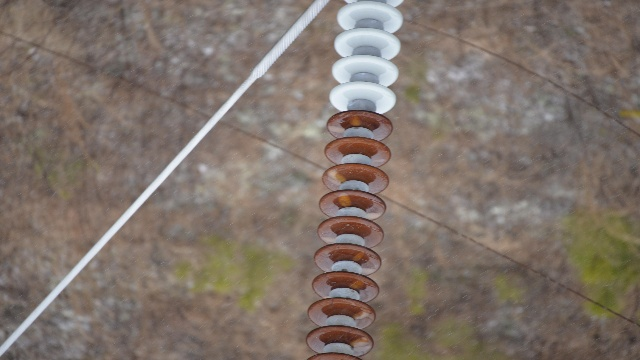insulator_unspecified: (305, 0, 408, 358)
pollution_flashover_local: (327, 113, 364, 132), (326, 164, 347, 187), (351, 335, 374, 354), (349, 274, 364, 292), (339, 189, 353, 208), (355, 307, 369, 325)
